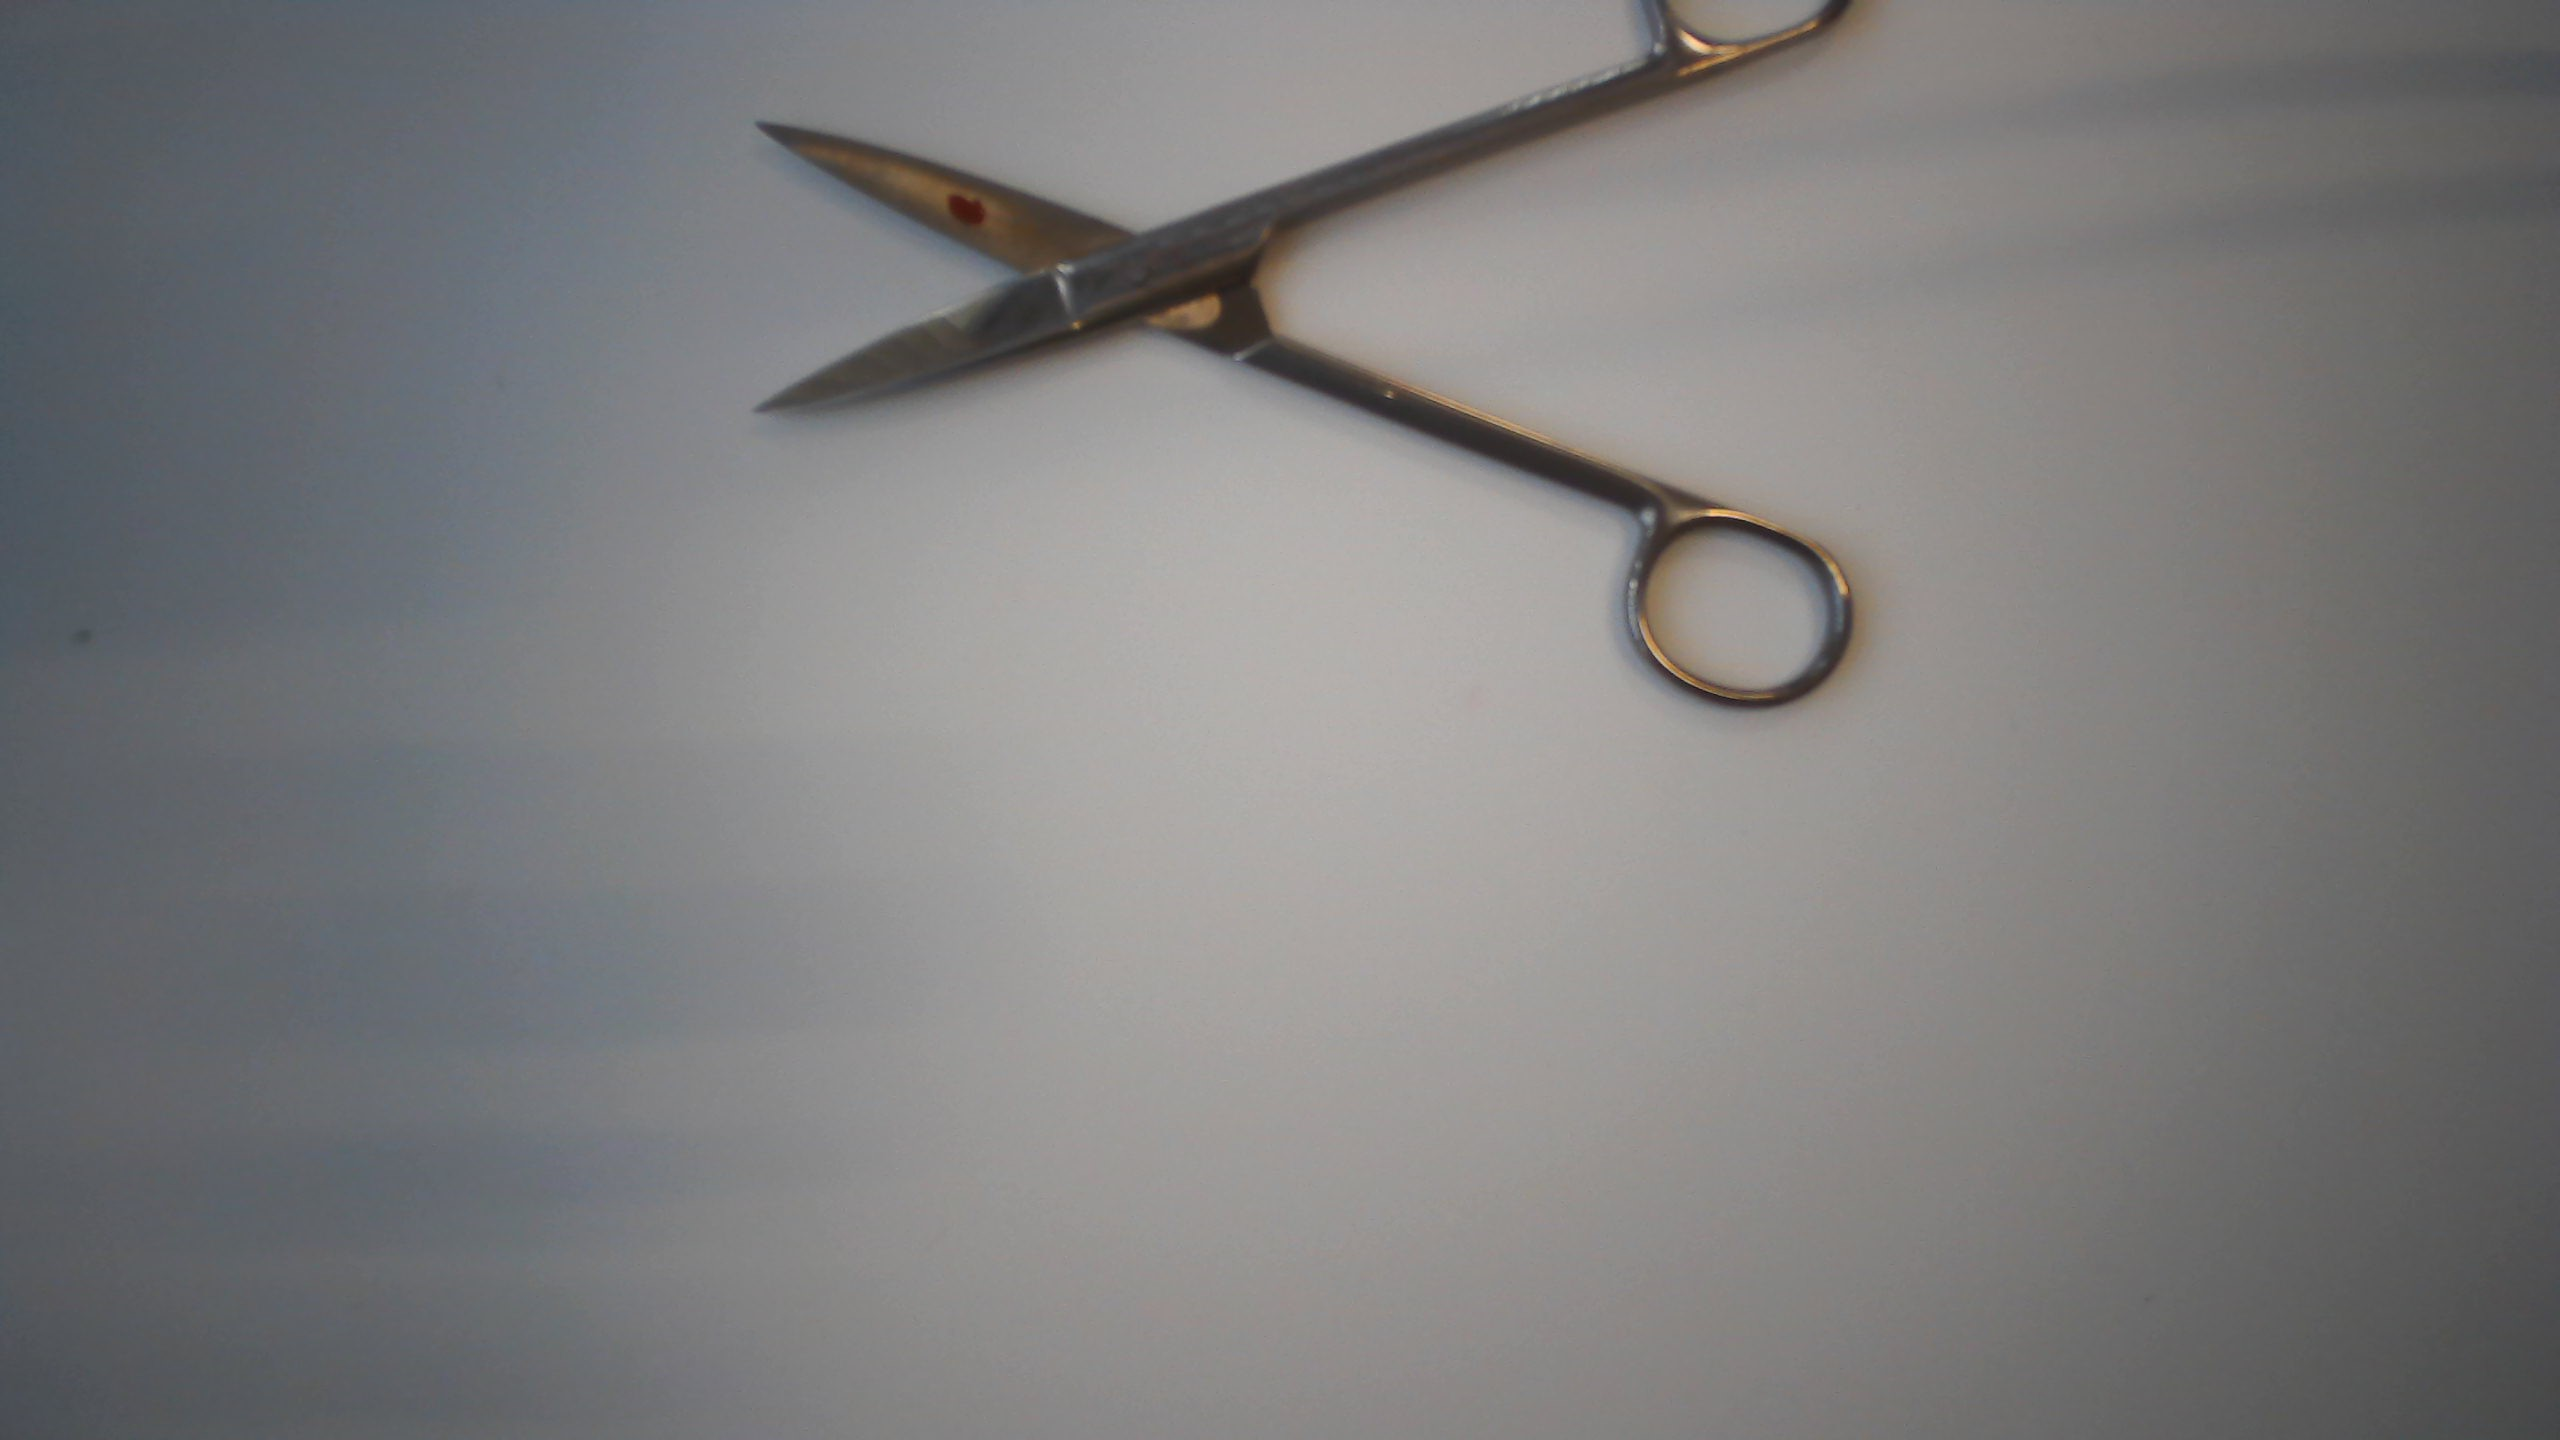Stain: (928, 181, 993, 243)
